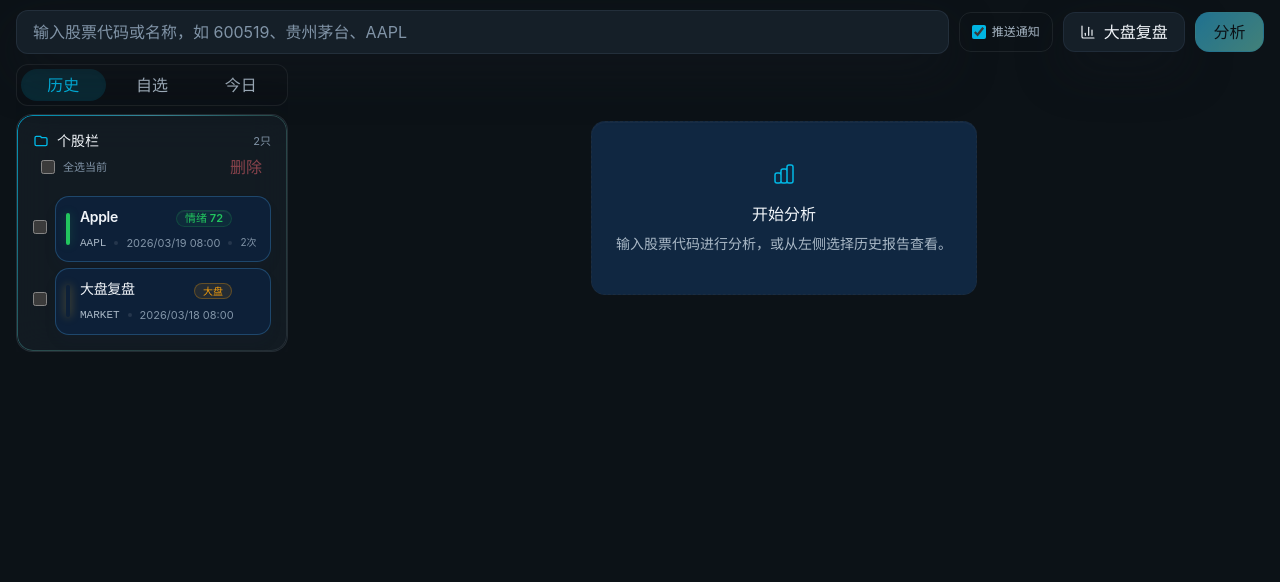
Test: HomePage › shows market review history in the stock bar
This screenshot has width=1280, height=582.
Click the button "大盘复盘 大盘 MARKET 2026/03/18 08:00" at (163, 301), box [55,268,271,334]
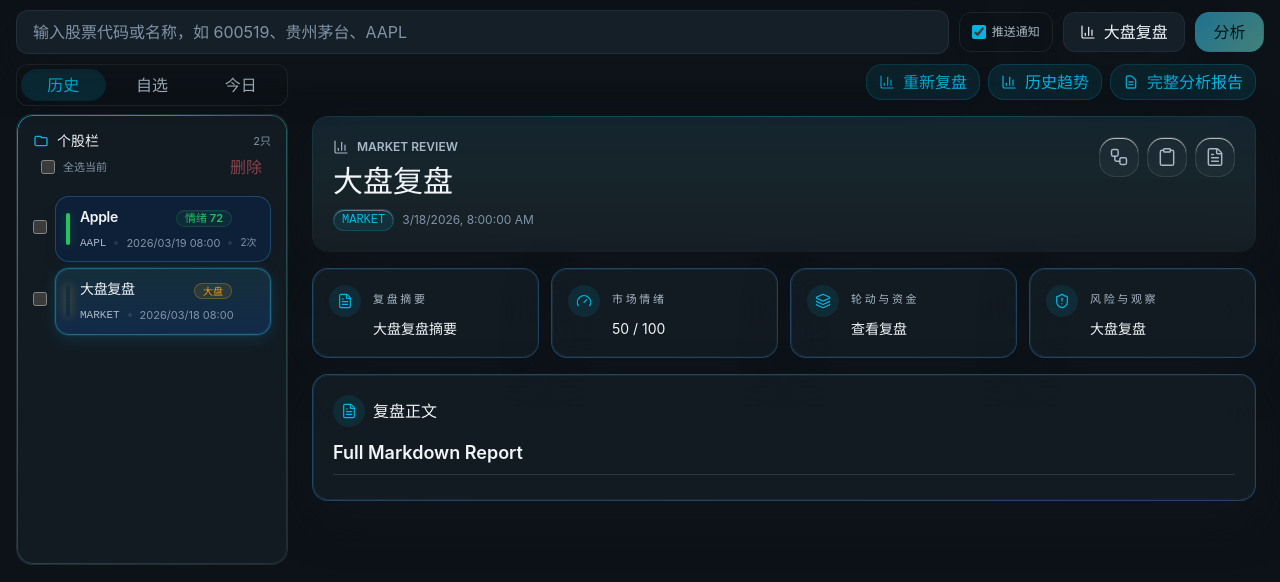
Expected: the text "大盘复盘摘要" is shown, [373,316,457,340]
